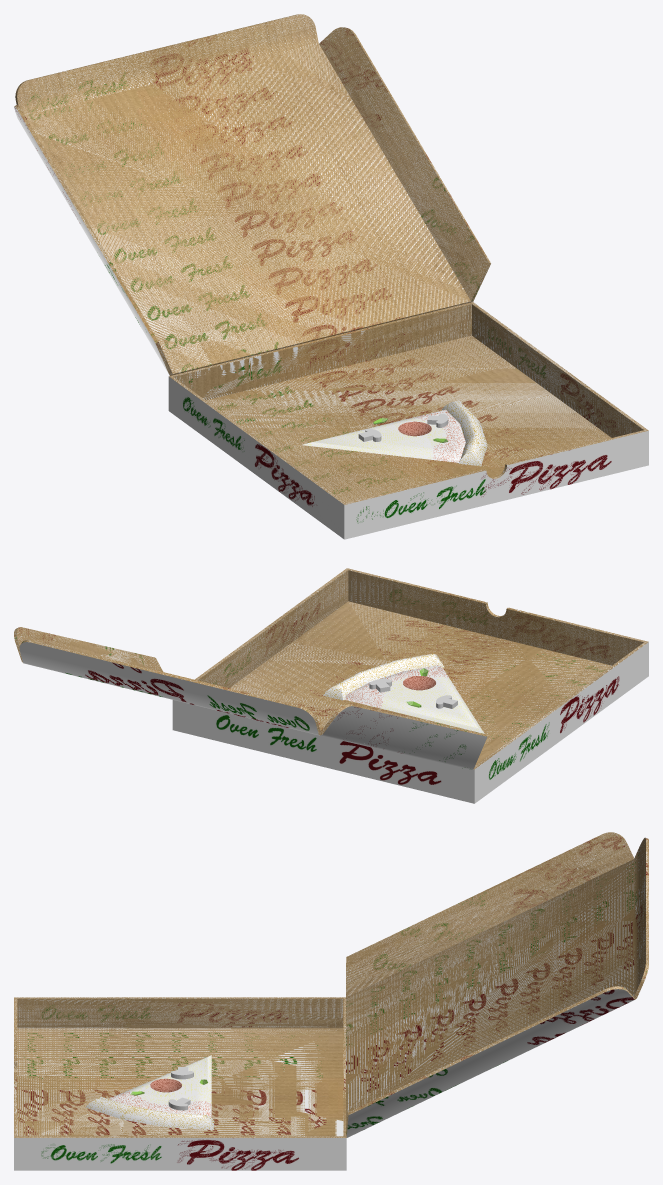
Rendered from pizza.dae.
3 renders of one model, top to bottom at view 1: azimuth 30°, elevation 25°; view 2: azimuth 150°, elevation 25°; view 3: azimuth 270°, elevation 25°, orthographic. The views are drawn at different scales.
Visible parts, largest first — view 1: skpB0CE (×3), Component_182 (×3); view 2: skpB0CE (×5), Component_182 (×3), Component_180; view 3: skpB0CE (×3), Component_182 (×3).
Part boxes in pixels (box(x1,y1,x2,y2)): skpB0CE (×3): box(14, 14, 648, 539); Component_182 (×3): box(302, 400, 487, 466); skpB0CE (×5): box(14, 568, 648, 803); Component_182 (×3): box(323, 654, 484, 733); Component_180: box(403, 676, 435, 690); skpB0CE (×3): box(14, 832, 648, 1170); Component_182 (×3): box(85, 1055, 213, 1129).
Bounding box in the file's own units: 20.32 × 35.06 × 12.14.
Materials: 17 (4 with a texture image).
